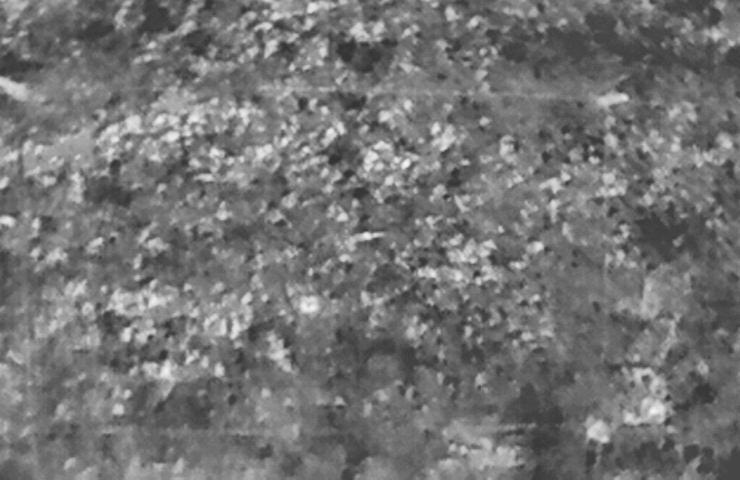landmines: (298, 293, 324, 318)
